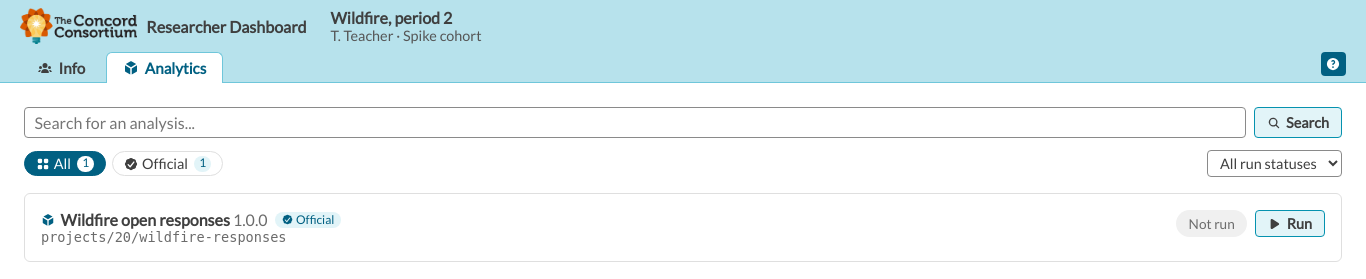
Test case: opening a package › runs a package from its subheader, and says it has no result until one lands
This screenshot has width=1366, height=279.
Expected: the heading "Wildfire, period 2" is shown, [331, 8, 452, 27]
Click the link "Wildfire open responses" at {"x": 135, "y": 220}, box [41, 210, 230, 229]
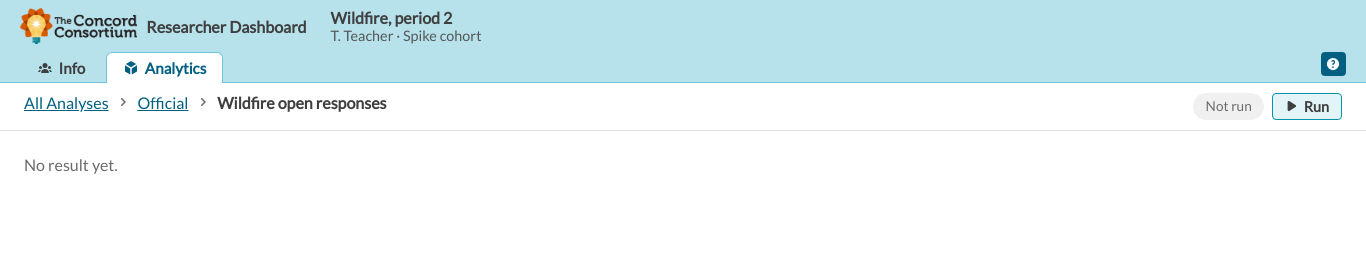
Expected: the text "Not run" is shown, [1206, 98, 1252, 114]
Now the text "No result yet." is shown, box [24, 155, 118, 174]
Click the button with aria-label "Run Wildfire open responses" at {"x": 1307, "y": 106}, box [1272, 93, 1342, 120]
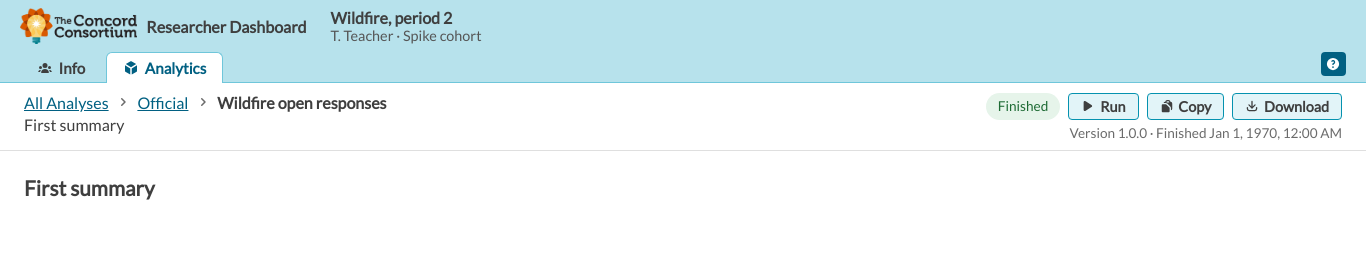
Now the heading "First summary" is shown, box [24, 175, 155, 200]
